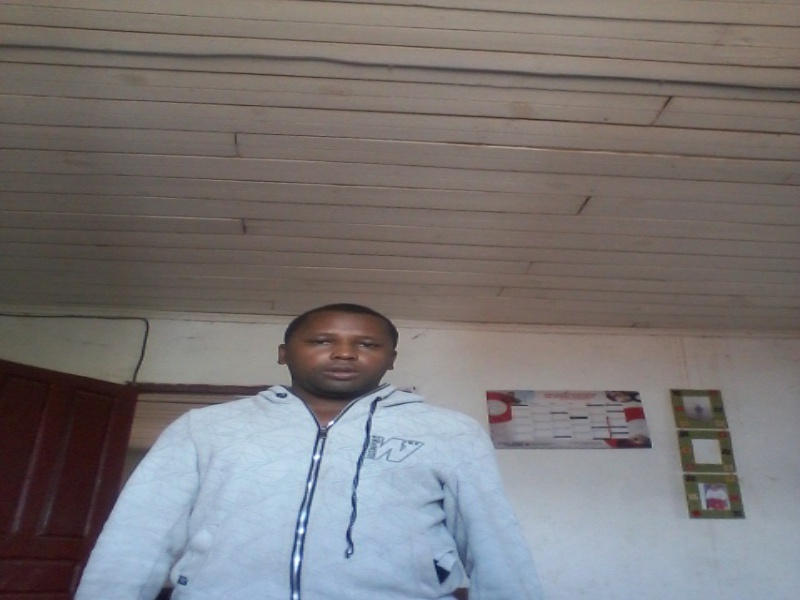TsisyArotava: (271, 292, 418, 407)
